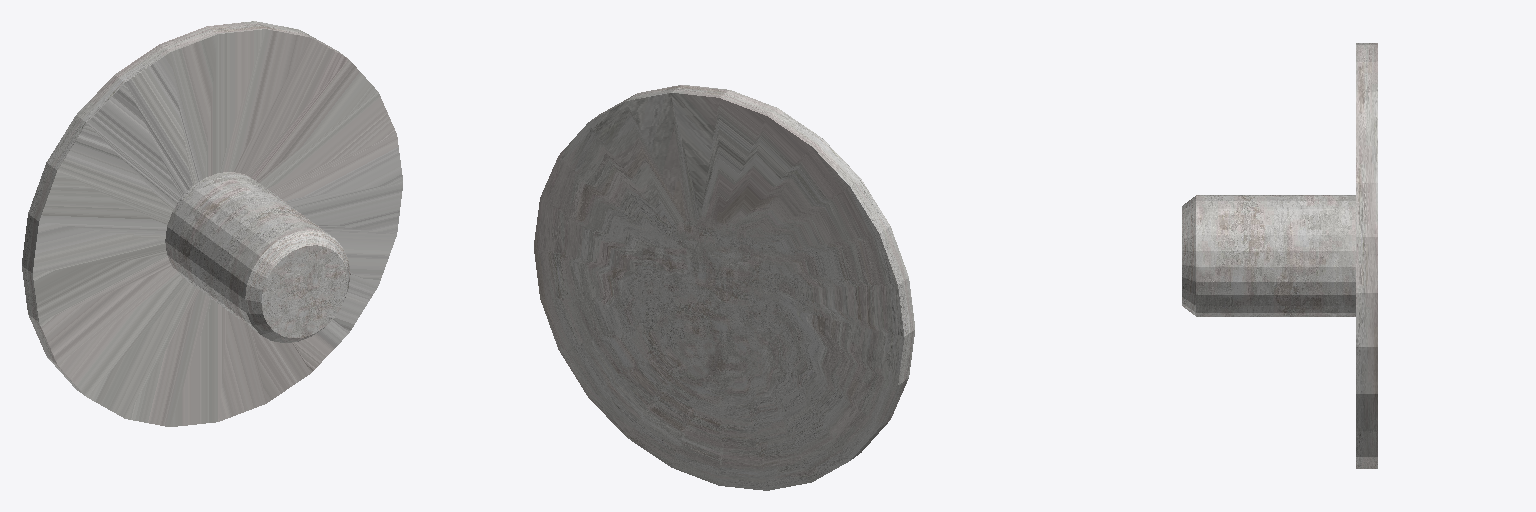
3 renders of one model, left to right at view 1: azimuth 30°, elevation 25°; view 2: azimuth 150°, elevation 25°; view 3: azimuth 270°, elevation 25°, orthographic.
Size of the model in its own units: 0.2312 by 0.2311 by 0.1057.
1 materials, 1 textured.